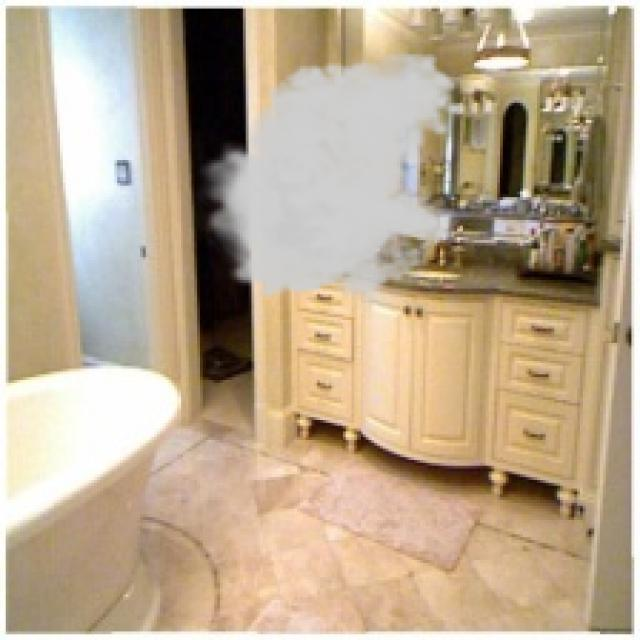Smoke: (194, 48, 466, 314)
